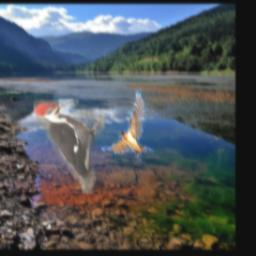Swallow: (101, 89, 154, 163)
Woodpecker: (34, 100, 105, 195)
